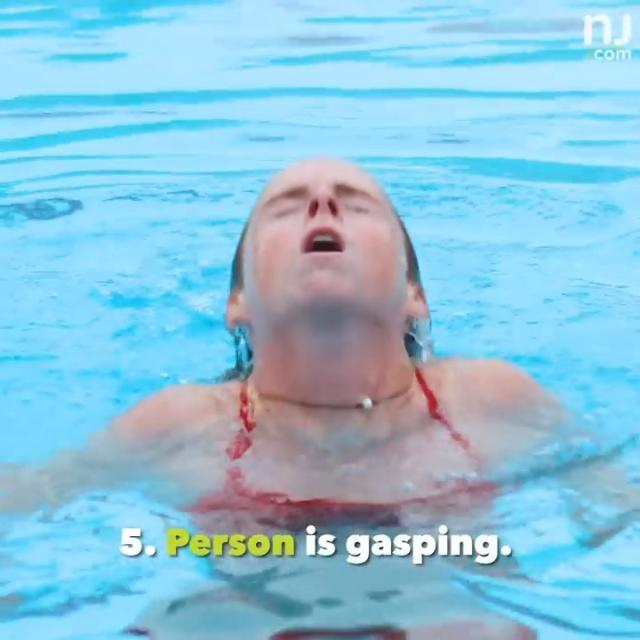Drowning: (183, 155, 477, 478)
